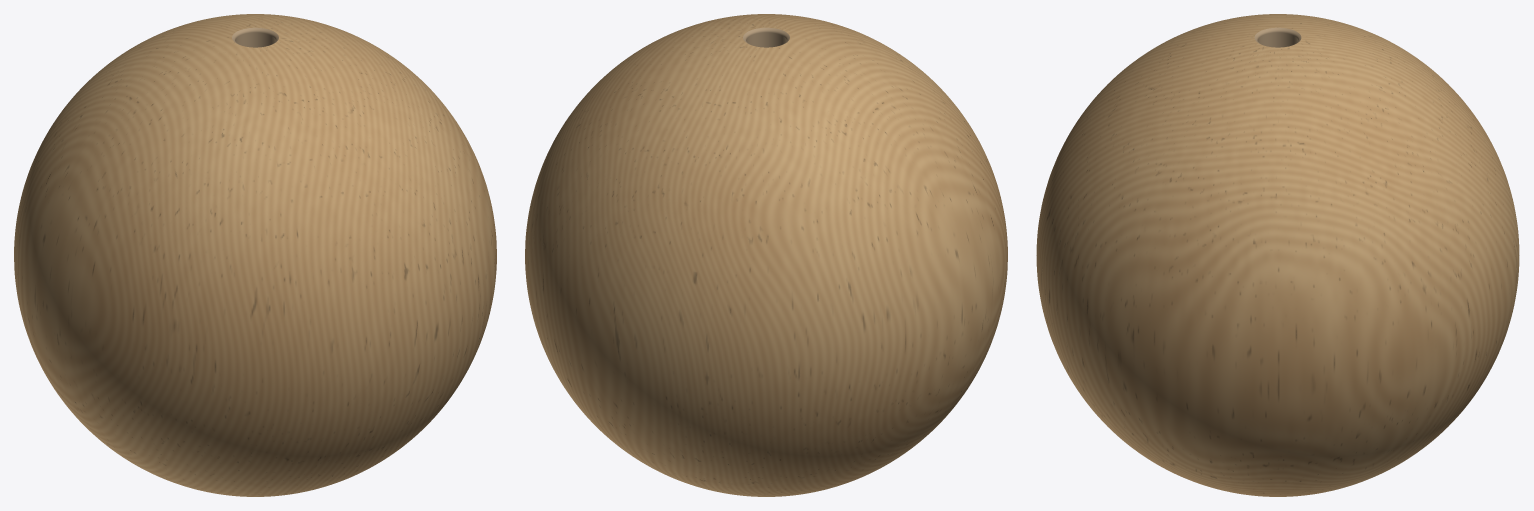
Rendered from wood-laoshan-sandalwood-12mm.glb.
The picture shows the model from 3 angles, left to right: view 1: azimuth 30°, elevation 25°; view 2: azimuth 150°, elevation 25°; view 3: azimuth 270°, elevation 25°; orthographic projection.
Visible parts, largest first — view 1: laoshan-sandalwood; view 2: laoshan-sandalwood; view 3: laoshan-sandalwood.
Part boxes in pixels (left/top/right/bottom): laoshan-sandalwood: left=14, top=14, right=496, bottom=496; laoshan-sandalwood: left=525, top=14, right=1007, bottom=496; laoshan-sandalwood: left=1036, top=14, right=1519, bottom=496.
Bounding box in the file's own units: 0.012 × 0.0119 × 0.012.
Materials: 2 (1 with a texture image).
